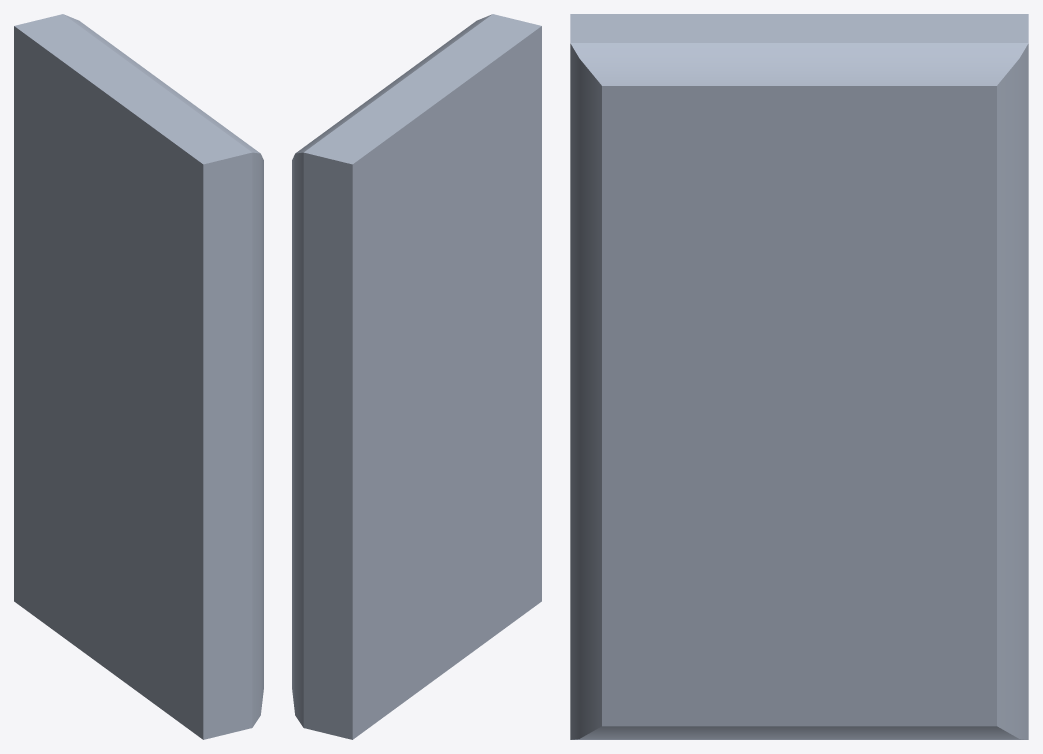
File: 1_Door.fbx
The picture shows the model from 3 angles, left to right: view 1: azimuth 30°, elevation 25°; view 2: azimuth 150°, elevation 25°; view 3: azimuth 270°, elevation 25°; orthographic projection. The views are drawn at different scales.
Parts seen in each view (by area): view 1: pasted__pasted__pCube38; view 2: pasted__pasted__pCube38; view 3: pasted__pasted__pCube38.
Part boxes in pixels (x1,y1,x2,y2): pasted__pasted__pCube38: (14, 14, 263, 739); pasted__pasted__pCube38: (292, 14, 541, 739); pasted__pasted__pCube38: (570, 14, 1028, 739).
Size of the model in its own units: 0.297 by 2.22 by 1.32.
